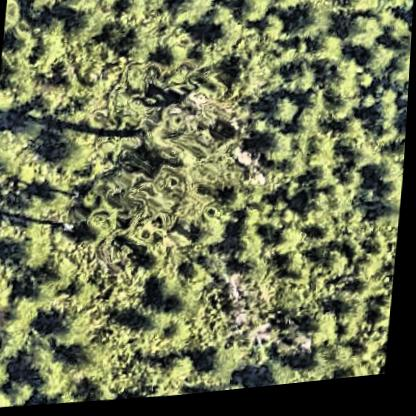tree-top: (15, 219, 67, 275), (229, 218, 275, 275), (302, 132, 352, 184), (34, 355, 83, 405), (365, 90, 410, 141), (155, 356, 204, 400), (342, 17, 387, 63), (281, 4, 324, 49), (309, 313, 350, 357), (311, 34, 352, 75), (288, 63, 327, 103), (262, 132, 300, 172), (124, 29, 163, 67), (53, 315, 92, 350), (11, 294, 46, 332), (174, 0, 221, 28), (366, 45, 401, 81), (277, 226, 312, 262), (171, 289, 205, 326), (271, 99, 305, 134), (342, 0, 391, 24), (237, 0, 276, 30), (264, 363, 303, 393), (9, 376, 43, 409), (207, 24, 241, 56), (306, 356, 335, 388), (391, 52, 412, 93), (379, 160, 407, 187), (0, 351, 18, 392), (4, 0, 24, 35), (19, 0, 75, 12), (66, 0, 100, 19), (0, 278, 18, 312), (66, 146, 82, 175), (217, 0, 252, 8)
